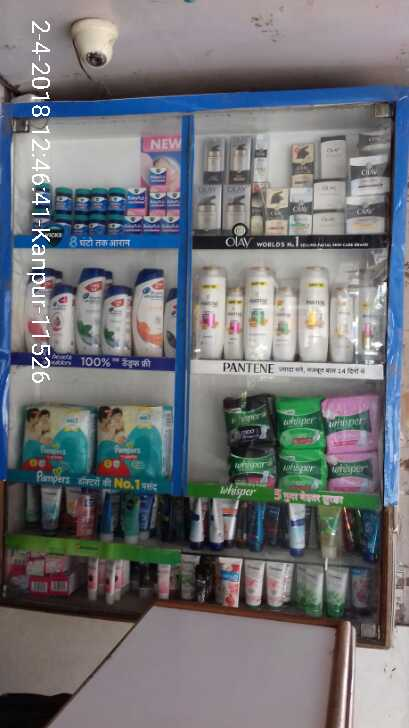vicks: (32, 184, 52, 211), (127, 189, 147, 215), (107, 188, 127, 212), (167, 193, 186, 218), (29, 215, 51, 236), (89, 188, 107, 213), (54, 188, 70, 213), (148, 169, 165, 192), (74, 188, 89, 213), (53, 213, 70, 235), (89, 215, 107, 235), (158, 219, 179, 236), (107, 215, 126, 233), (143, 216, 158, 236), (149, 194, 163, 215), (126, 216, 143, 233), (75, 216, 89, 235)
